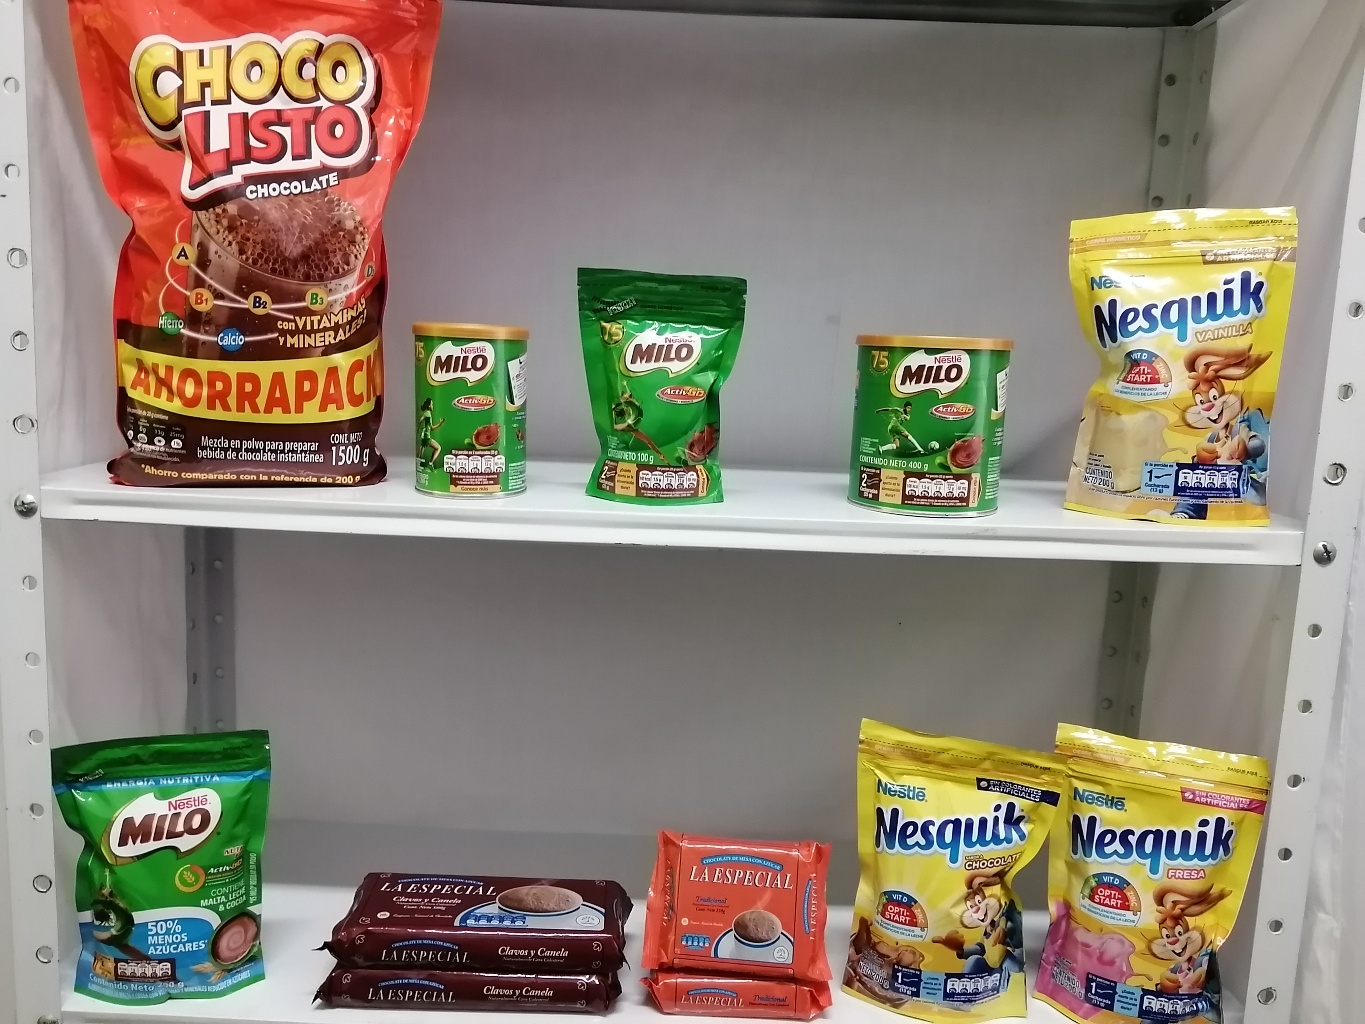COL0170103DYP1,500: (54, 2, 450, 492)
COL0170203DYP10000: (554, 250, 760, 514)
COL0170203LAT20000: (402, 313, 538, 506)
COL0170203LAT40000: (839, 318, 1040, 521)
COL0170205DYP20000: (38, 711, 288, 1010)
COL0170303DYP20000: (841, 709, 1070, 1024)
COL0170305DYP20000: (1044, 705, 1269, 1020)
COL0170306DYP20000: (1046, 188, 1312, 545)
